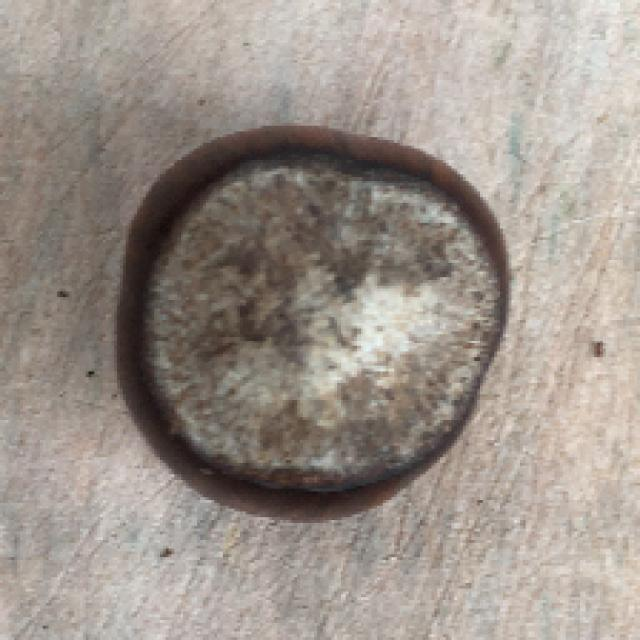QualityHazelnut: (115, 126, 515, 527)
